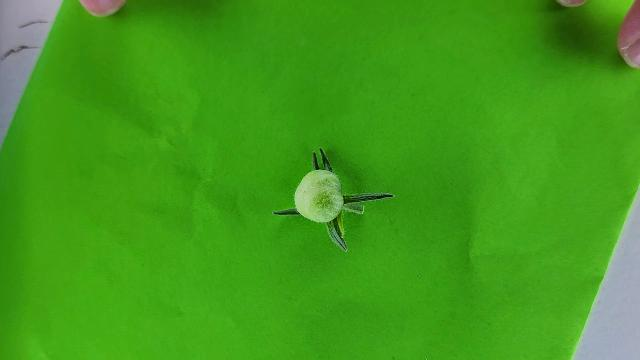Fruit Maturation: (293, 169, 345, 222)
